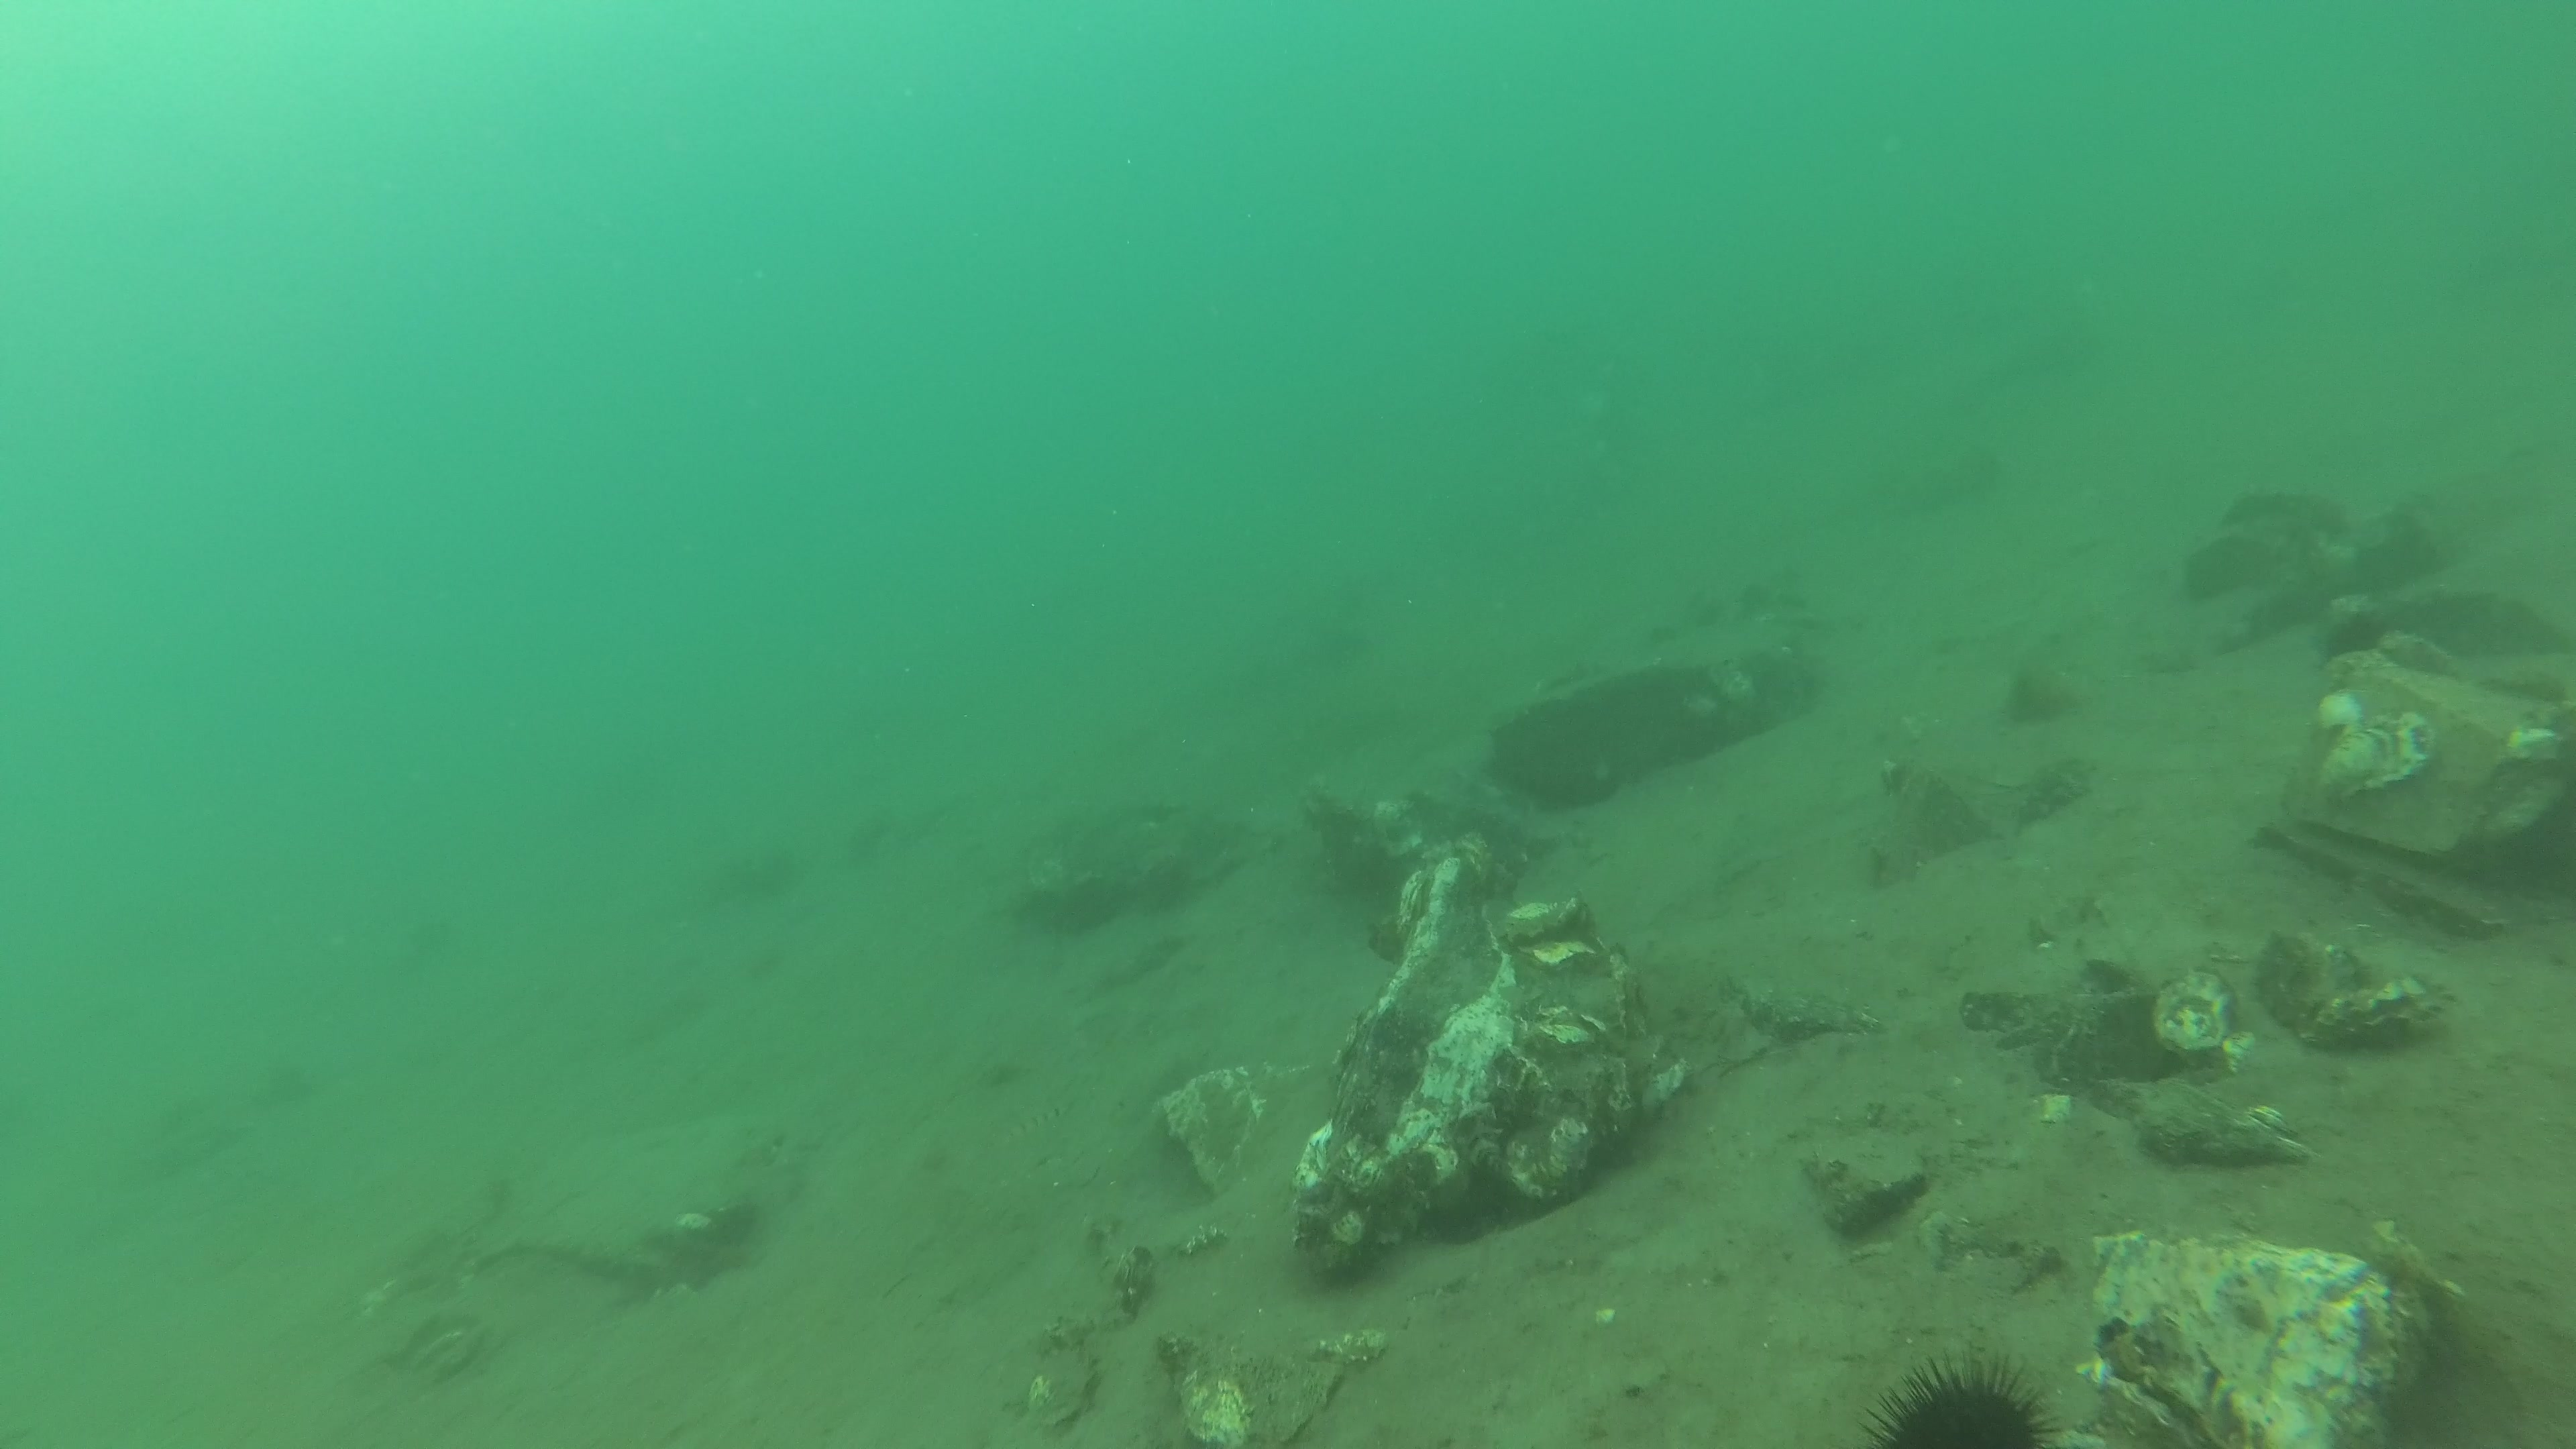echinus: (1858, 1345, 2065, 1449), (2321, 614, 2385, 662)
